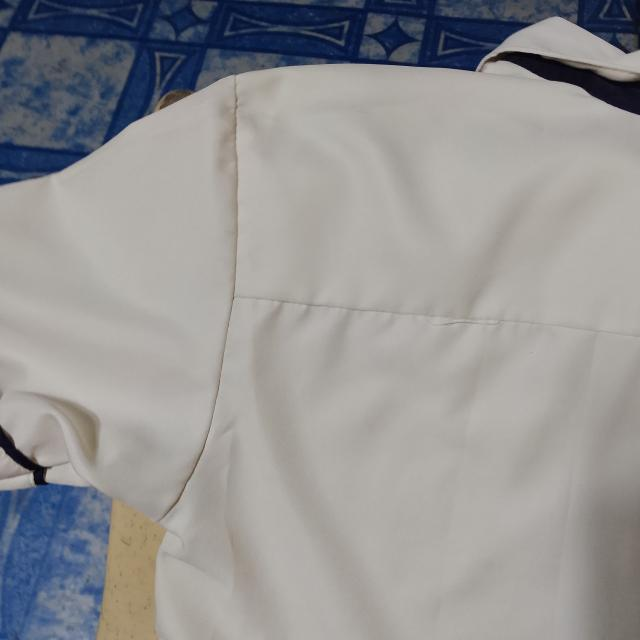education_male_uniform: (0, 20, 640, 628)
